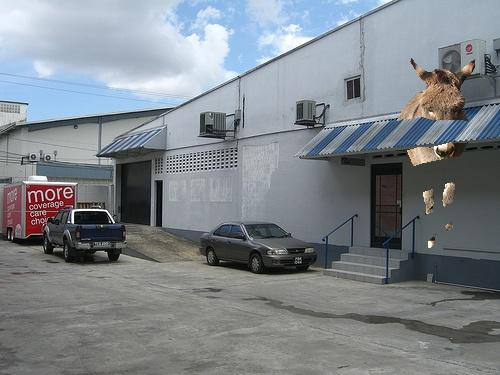tampered: (398, 59, 475, 248)
